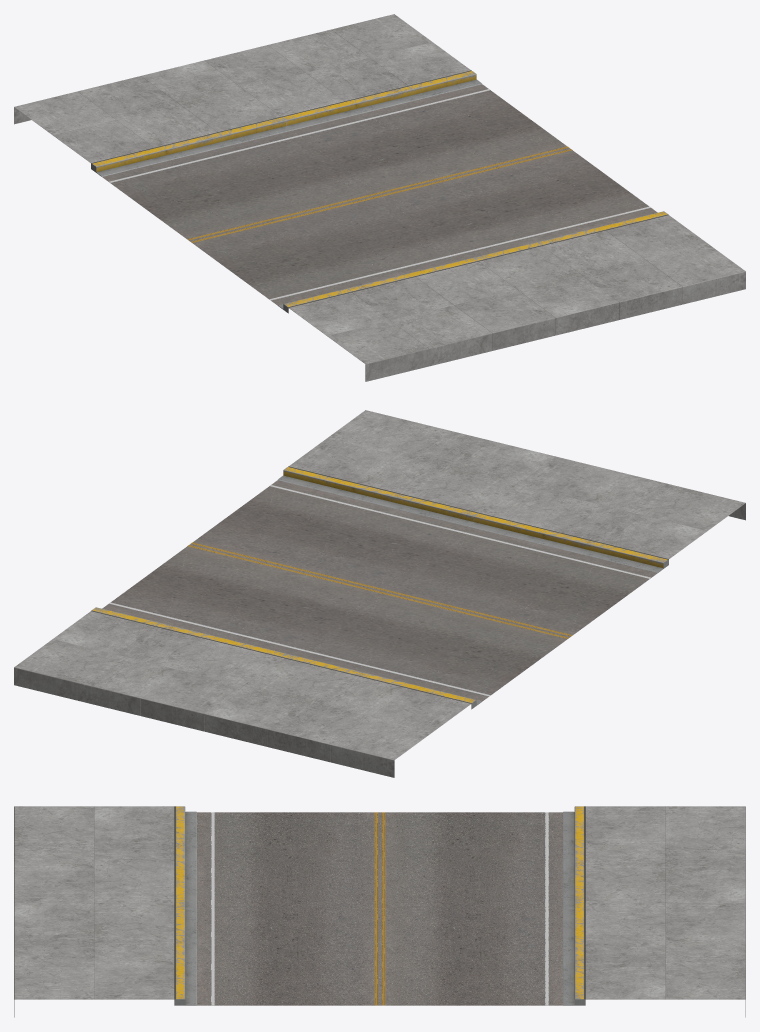
File: Road_2L_VarB.fbx
3 views of the same model, one above another, from view 1: azimuth 30°, elevation 25°; view 2: azimuth 150°, elevation 25°; view 3: azimuth 270°, elevation 25° (orthographic). The views are drawn at different scales.
Visible parts, largest first — view 1: Road_2L_VarB_LOD0; view 2: Road_2L_VarB_LOD0; view 3: Road_2L_VarB_LOD0.
Boxes of the visible parts, left/top/right/bottom form: Road_2L_VarB_LOD0: left=14, top=14, right=745, bottom=381; Road_2L_VarB_LOD0: left=14, top=410, right=745, bottom=777; Road_2L_VarB_LOD0: left=14, top=806, right=745, bottom=1017.
Size of what is drawn, in the model's own units: 1000 by 44.86 by 1601.
